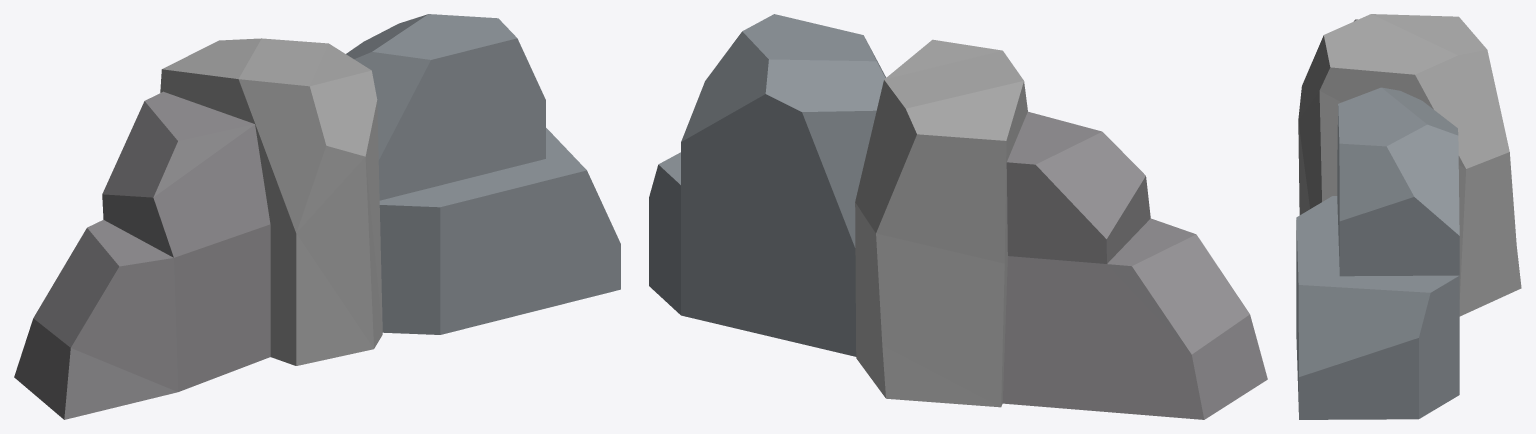
Rendered from Rock_Wall_01.fbx.
The picture shows the model from 3 angles, left to right: view 1: azimuth 30°, elevation 25°; view 2: azimuth 150°, elevation 25°; view 3: azimuth 270°, elevation 25°; orthographic projection. The views are drawn at different scales.
Parts seen in each view (by area): view 1: Rock_Wall_01; view 2: Rock_Wall_01; view 3: Rock_Wall_01.
Boxes of the visible parts, x1,y1,x2,y2 form: Rock_Wall_01: (14, 14, 620, 419); Rock_Wall_01: (649, 14, 1267, 419); Rock_Wall_01: (1296, 14, 1521, 419).
Size of the model in its own units: 521 by 241 by 197.
